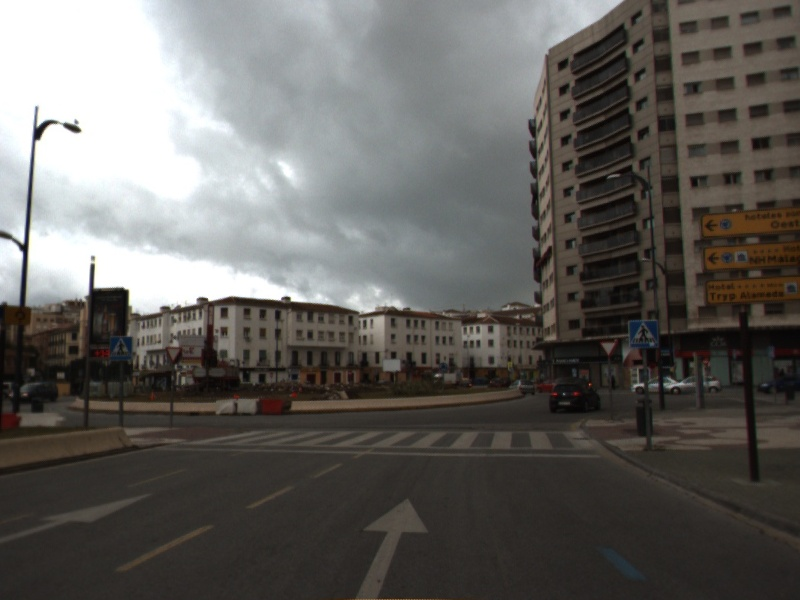STRAIGHT: (1, 489, 158, 566), (349, 493, 433, 600)
